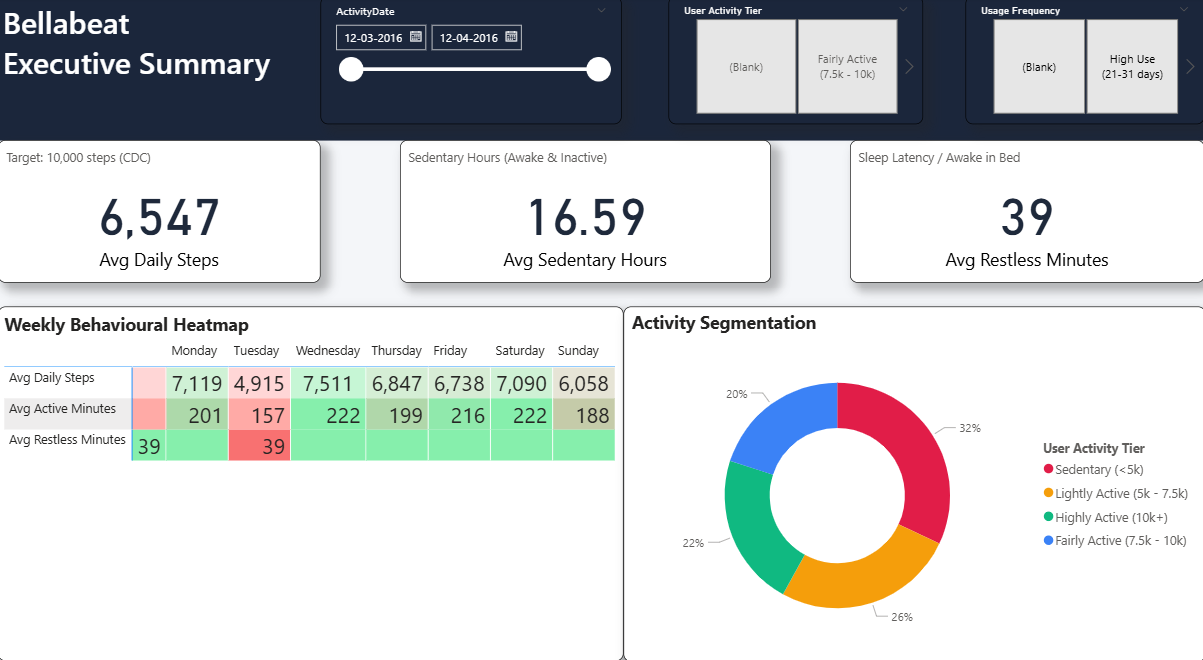

What the dashboard file says about the page in this screenshot:
{"tool":"powerbi","page":{"name":"Page 1","canvas":[1280,720],"ordinal":0},"visuals":[{"type":"textbox","box":[0,0,1279.4,153.1],"z":0},{"type":"card","fields":{"Values":["_Measures.Avg Daily Steps"]},"box":[0,153.1,342,151.2],"z":1000},{"type":"card","fields":{"Values":["_Measures.Avg Sedentary Hours"]},"box":[426.1,153.1,393.1,151.2],"z":2000},{"type":"card","fields":{"Values":["_Measures.Avg Restless Minutes"]},"box":[903.3,153.1,376.1,151.2],"z":3000},{"type":"pivotTable","title":"Weekly Behavioural","fields":{"Values":["_Measures.Avg Daily Steps","_Measures.Avg Active Minutes","_Measures.Avg Restless Minutes"],"Rows":["dailyActivity_merged.DayOfWeek"]},"box":[17,326.9,606.6,378],"z":4000},{"type":"donutChart","title":"Activity Segmentation","fields":{"Y":["Count(dailyActivity_merged.Id)"],"Category":["dailyActivity_merged.User Activity Tier"]},"box":[640.6,326.9,618,378],"z":5000},{"type":"slicer","fields":{"Values":["dailyActivity_merged.ActivityDate"]},"box":[342,0,319.4,136.1],"z":6000},{"type":"slicer","fields":{"Values":["dailyActivity_merged.User Activity Tier"]},"box":[710.6,0,270.2,136.1],"z":7000},{"type":"slicer","fields":{"Values":["dailyActivity_merged.Usage Frequency"]},"box":[1026.1,0,253.2,136.1],"z":8000}]}

Visuals, with their boxes in screenshot pixels (x1, y1, x2, y2), scaled from the page's 1280x720 canvas onto the 1203x660 screenshot:
textbox: box=[0, 0, 1202, 140]
card - _Measures.Avg Daily Steps: box=[0, 140, 321, 279]
card - _Measures.Avg Sedentary Hours: box=[400, 140, 770, 279]
card - _Measures.Avg Restless Minutes: box=[849, 140, 1202, 279]
"Weekly Behavioural" pivotTable: box=[16, 300, 586, 646]
"Activity Segmentation" donutChart: box=[602, 300, 1183, 646]
slicer - dailyActivity_merged.ActivityDate: box=[321, 0, 622, 125]
slicer - dailyActivity_merged.User Activity Tier: box=[668, 0, 922, 125]
slicer - dailyActivity_merged.Usage Frequency: box=[964, 0, 1202, 125]
